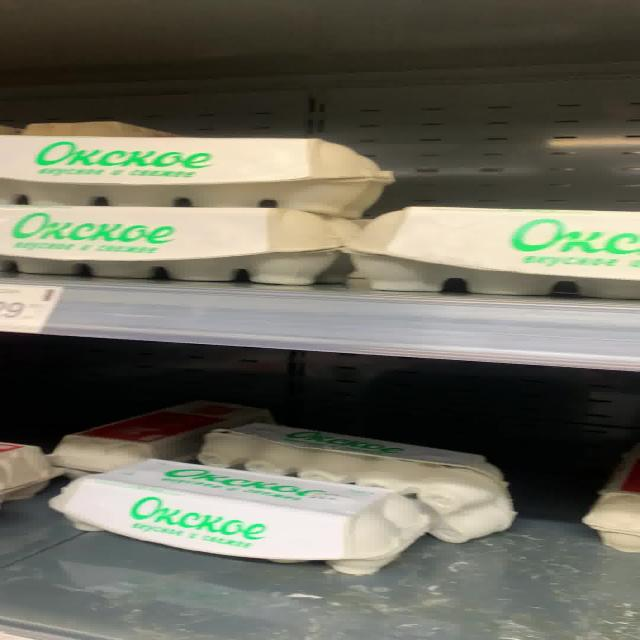egg box: (42, 454, 428, 574), (0, 133, 389, 213), (2, 205, 336, 284)
